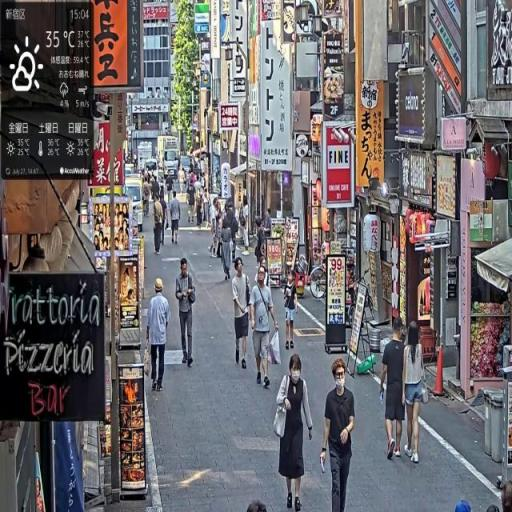person: (274, 353, 316, 512), (321, 356, 357, 512), (380, 319, 409, 462), (250, 267, 281, 389), (402, 322, 428, 467), (147, 277, 172, 394), (175, 258, 198, 368), (232, 256, 252, 372), (219, 204, 237, 286), (284, 270, 300, 352), (153, 193, 166, 257), (170, 191, 183, 246), (240, 199, 251, 253)
